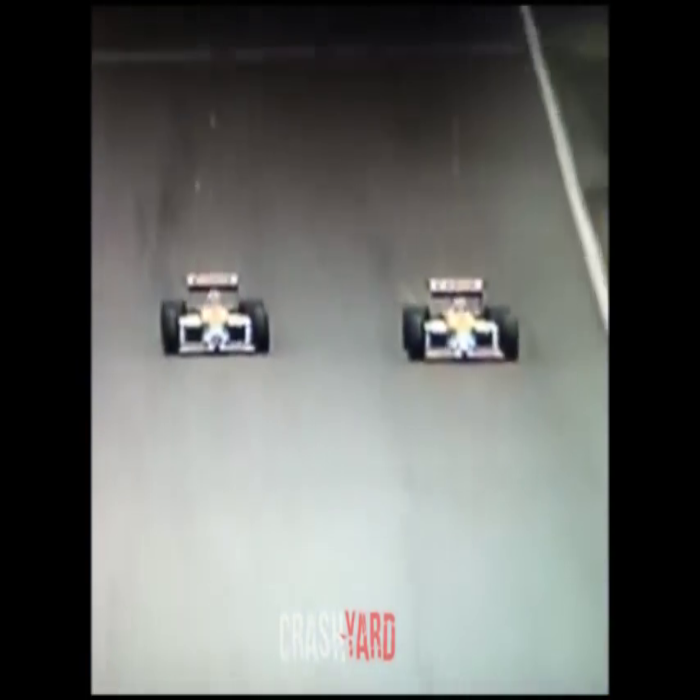f1_car: (390, 268, 529, 379), (155, 261, 279, 368)
